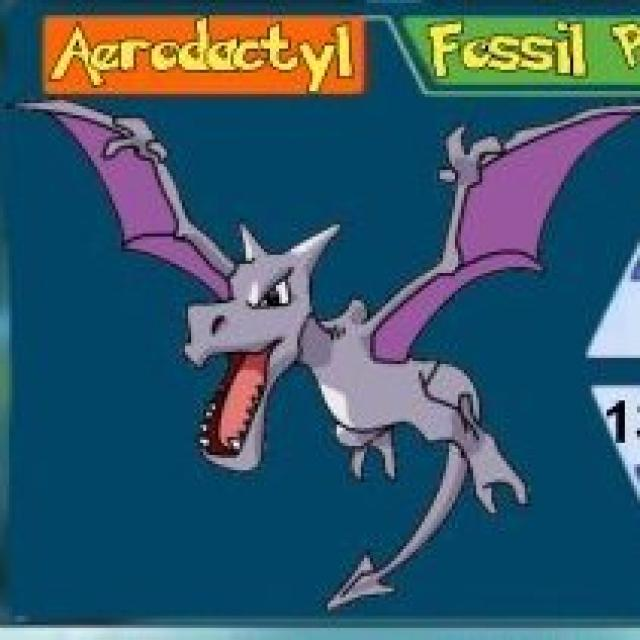Aerodactyl: (145, 224, 513, 496)
